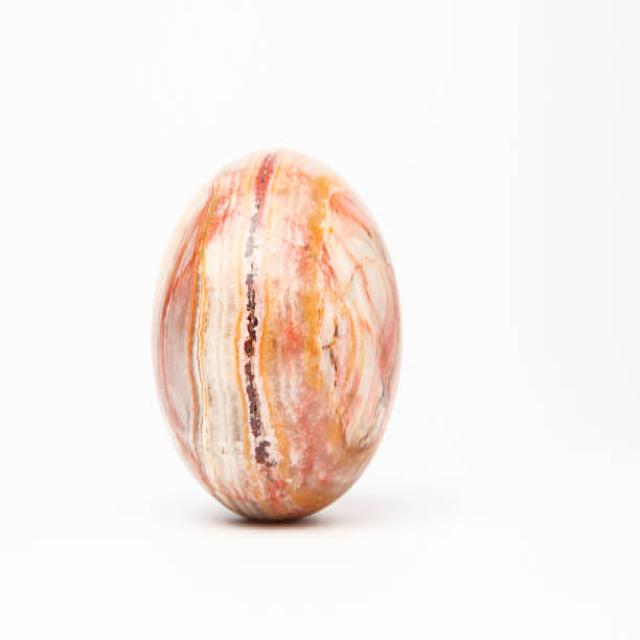Metamorphic: (152, 144, 404, 529)
